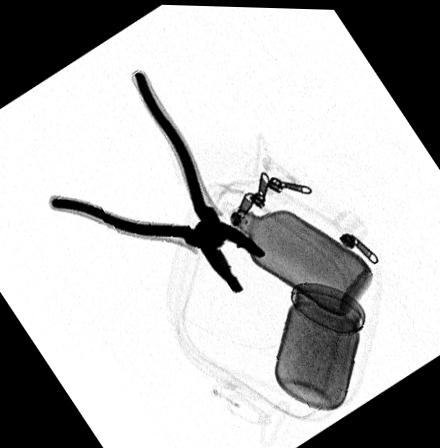Pliers: (49, 69, 265, 290)
